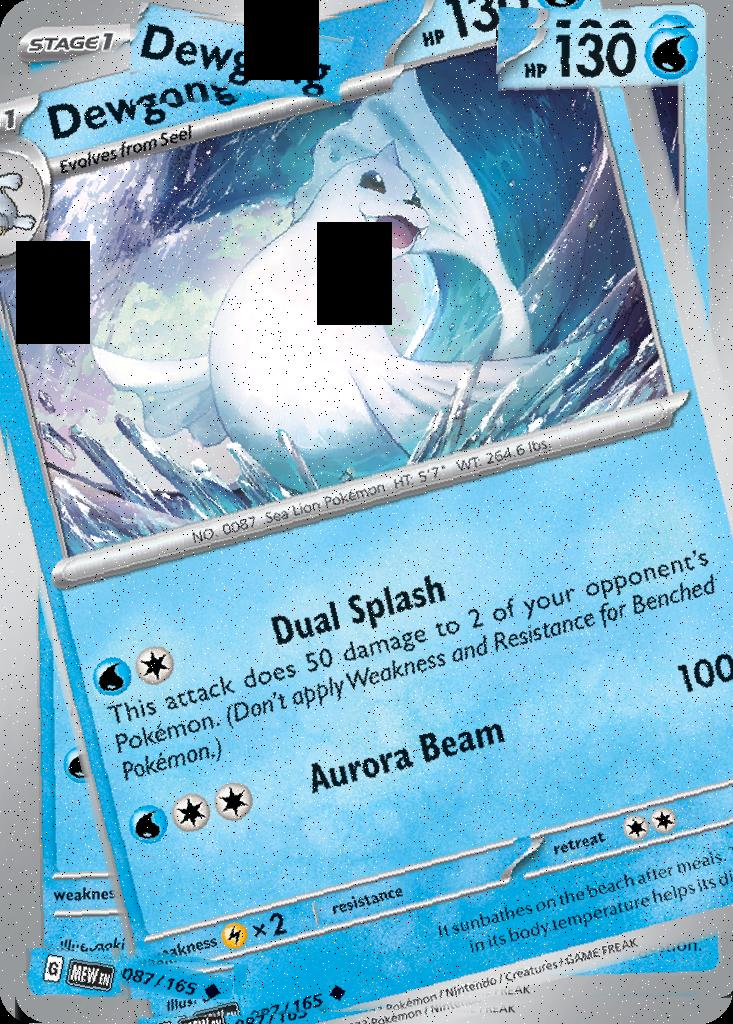card: (0, 0, 733, 1024)
hp: (496, 29, 702, 100)
name: (131, 16, 351, 105)
set num: (116, 958, 234, 999)
set symbol: (26, 949, 123, 1000)
